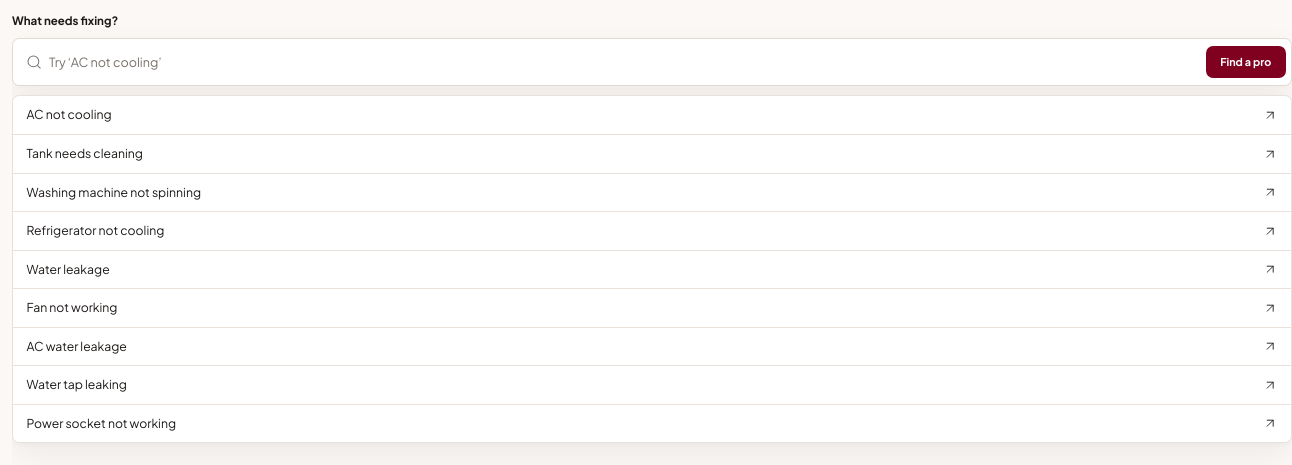
Test: customer experience › filters deterministic problem suggestions
Step 1. Type "water" into the field with placeholder "Try ‘AC not cooling’" → (624, 62), box left=49, top=44, right=1199, bottom=80
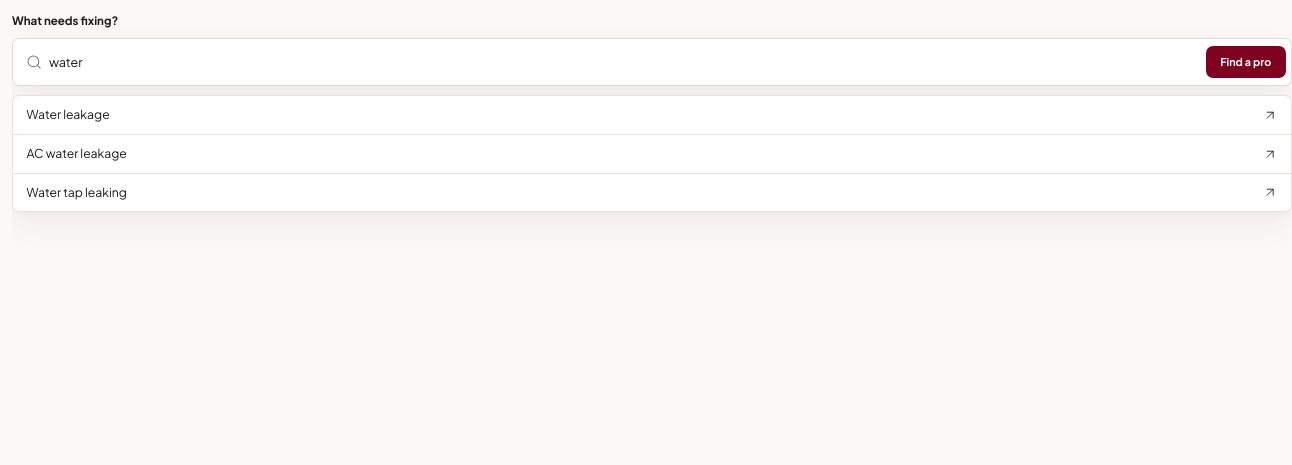
Expected: the text "Water leakage" is shown, left=26, top=105, right=110, bottom=125
Expected: the link "AC not cooling" is gone
